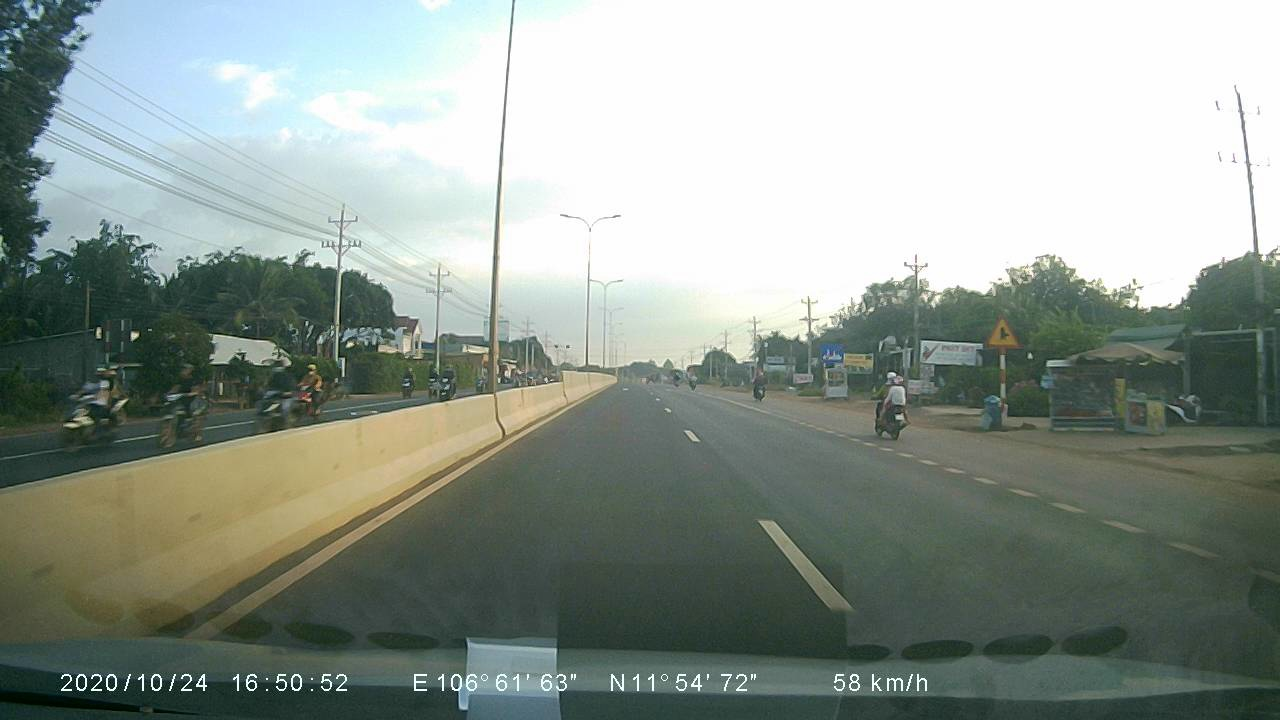Giao nhau voi duong khong uu tien: (986, 313, 1018, 350)
